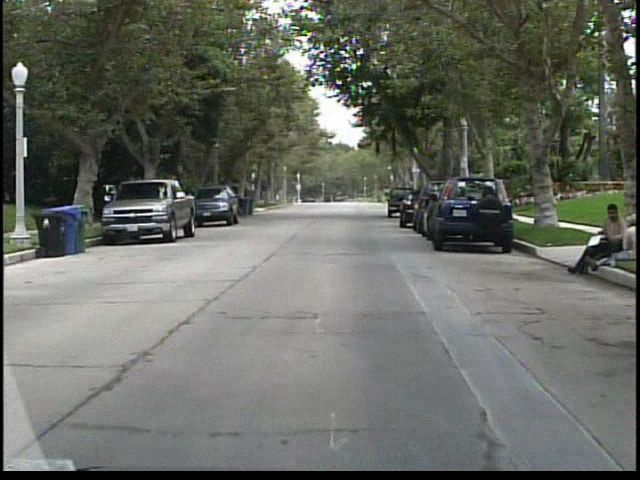person: (563, 199, 622, 276), (611, 214, 639, 260)
